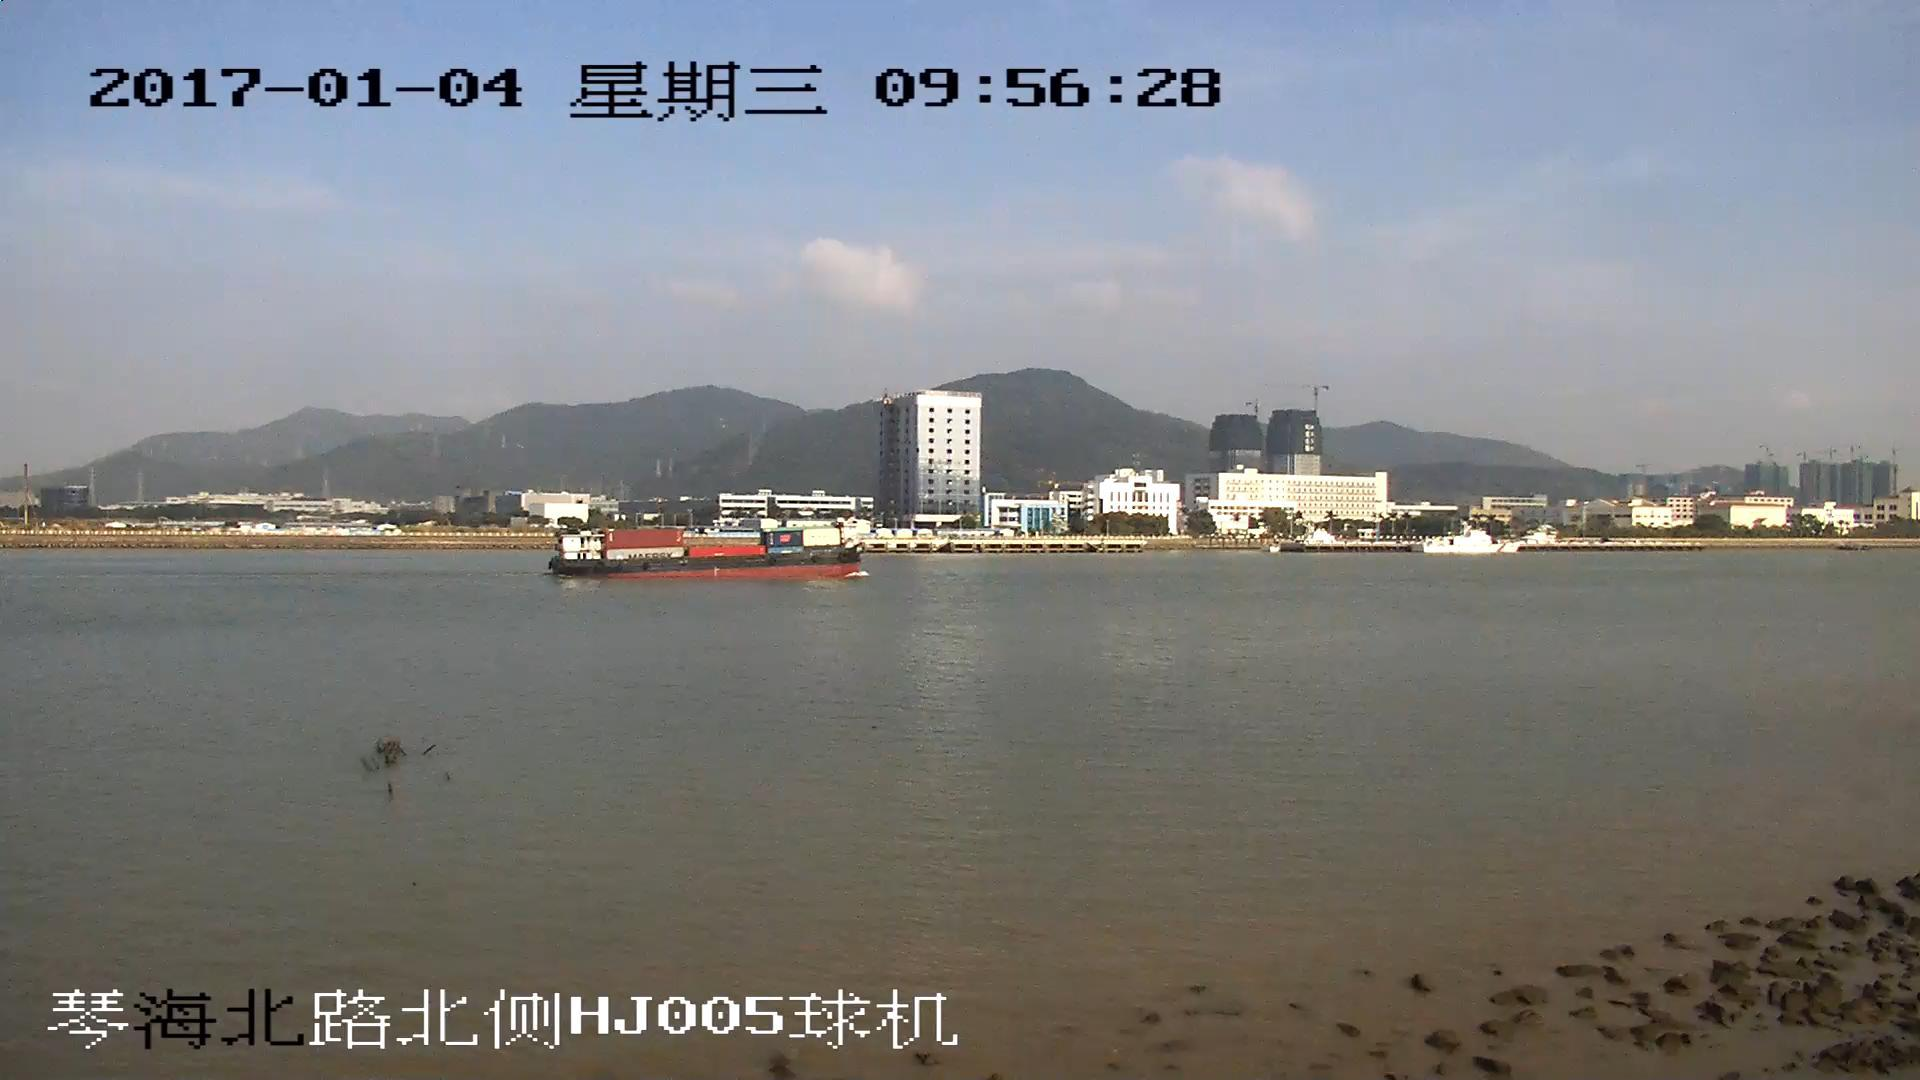Ship: (553, 525, 866, 580)
